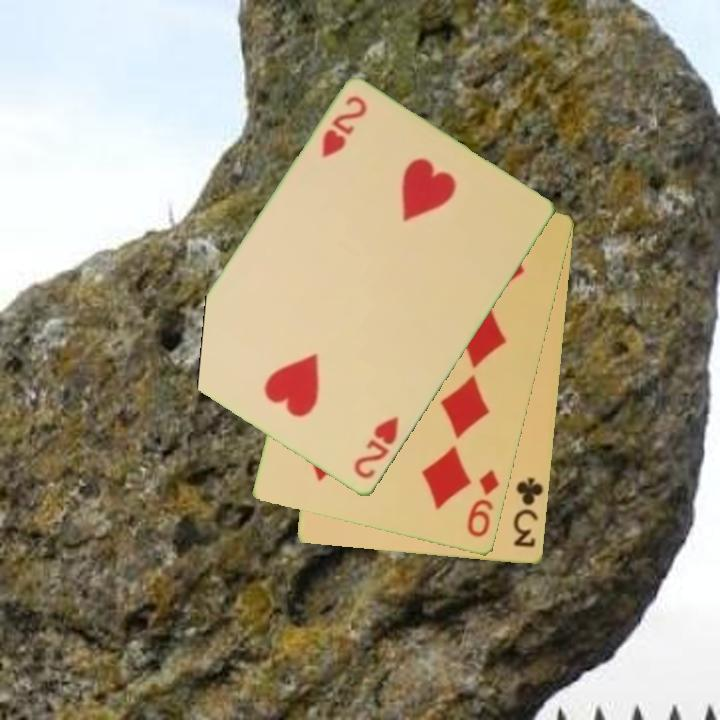2h: (318, 92, 371, 161), (350, 413, 402, 483)
3c: (510, 475, 547, 551)
9d: (464, 467, 503, 541)
